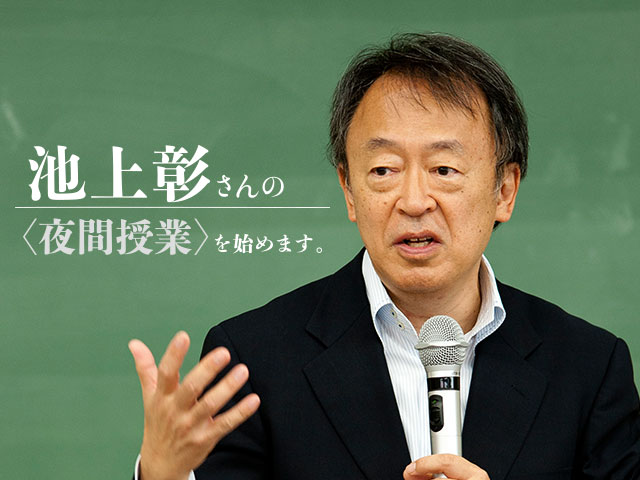face: (344, 70, 521, 294)
hand: (128, 331, 262, 480)
